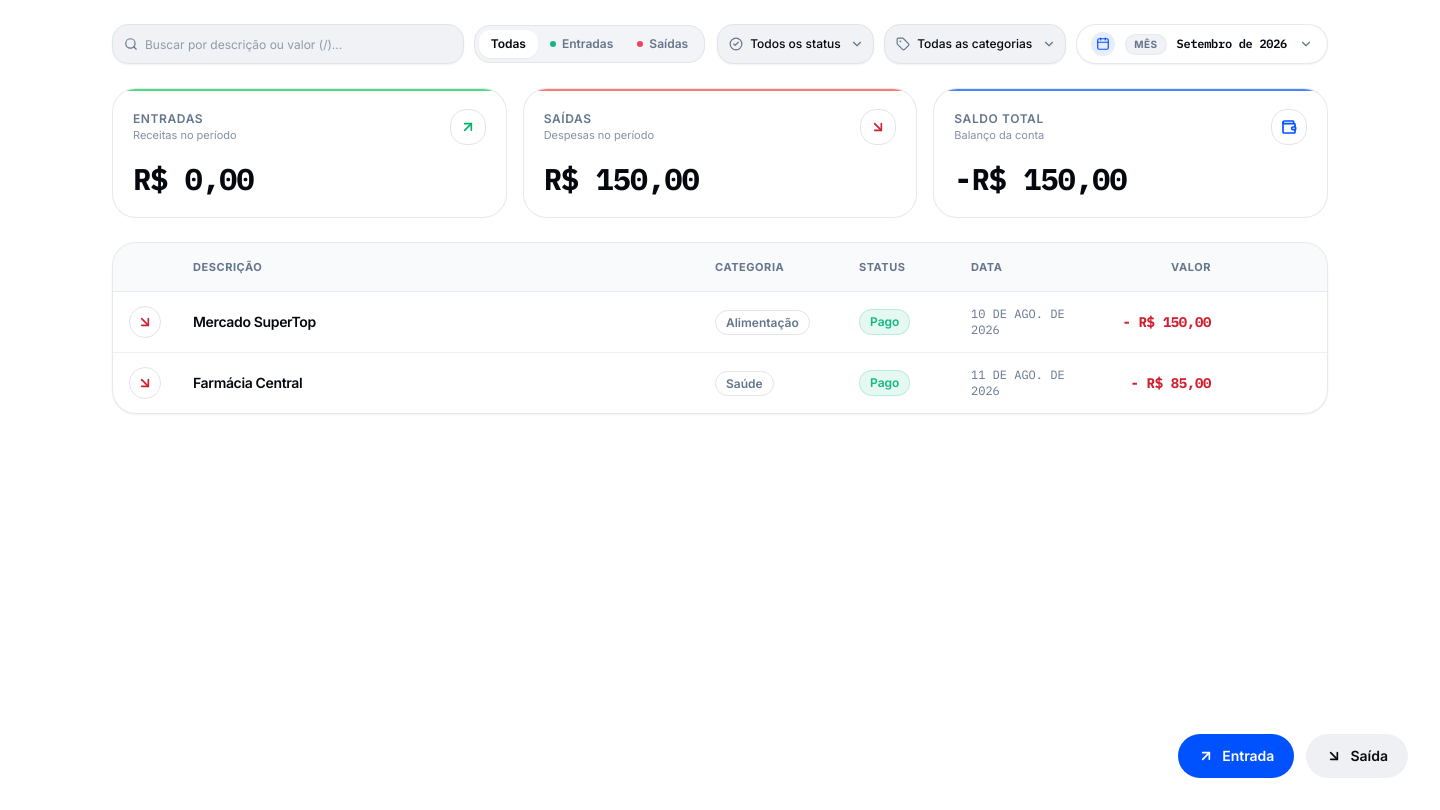
Extrato.jsx category and status filter › deve filtrar transações por texto em tempo real usando a barra de busca
Expected: the text "Mercado SuperTop" is shown, left=193, top=312, right=316, bottom=332
Expected: the text "Farmácia Central" is shown, left=193, top=372, right=302, bottom=392
Type "Farmácia" into the field named "Buscar transações". click: (288, 44)
box: left=112, top=24, right=464, bottom=64
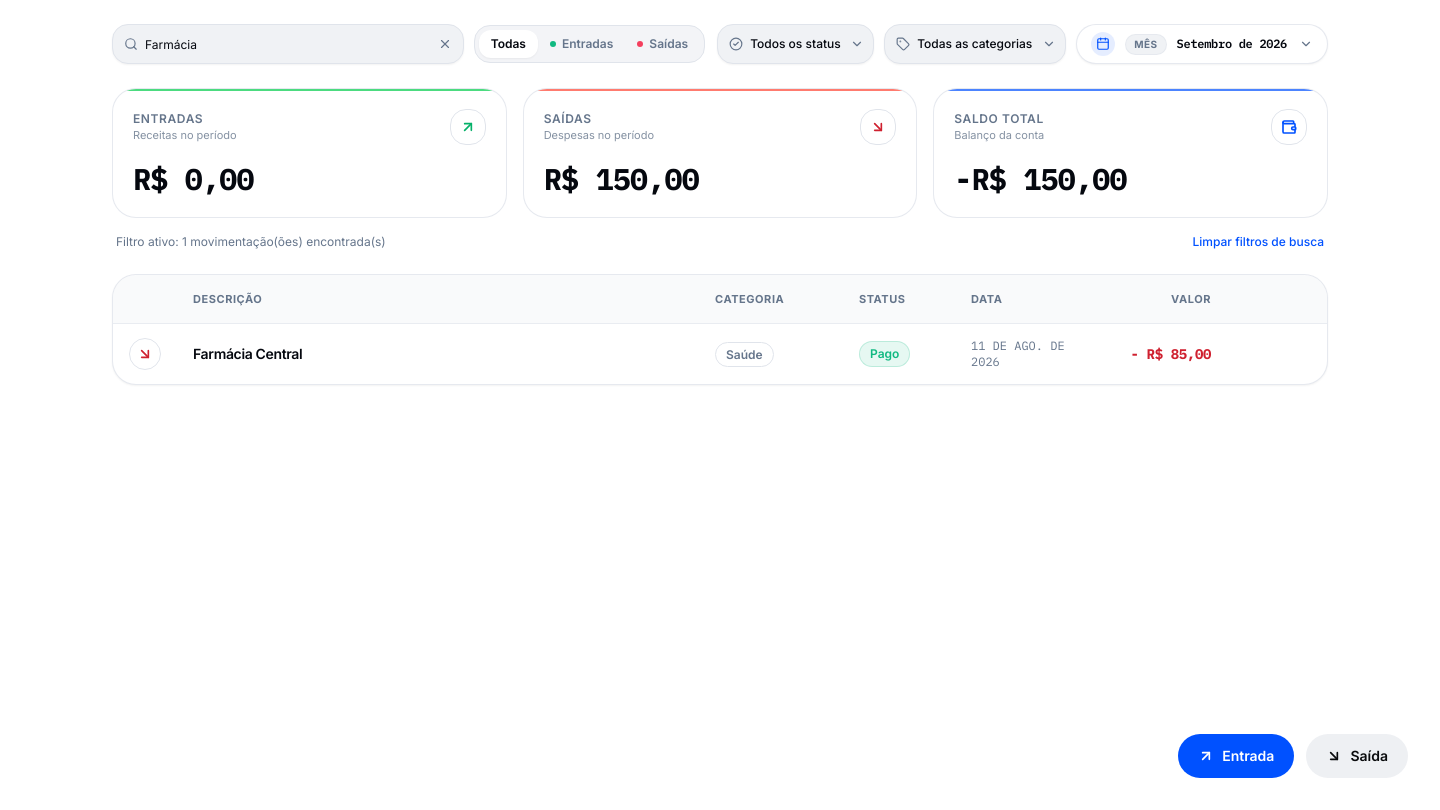
Expected: the text "Farmácia Central" is shown, left=193, top=344, right=302, bottom=364
Expected: the text "Mercado SuperTop" is gone
Expected: the text "Filtro ativo: 1 movimentação(ões) encontrada(s)" is shown, left=116, top=234, right=386, bottom=250
